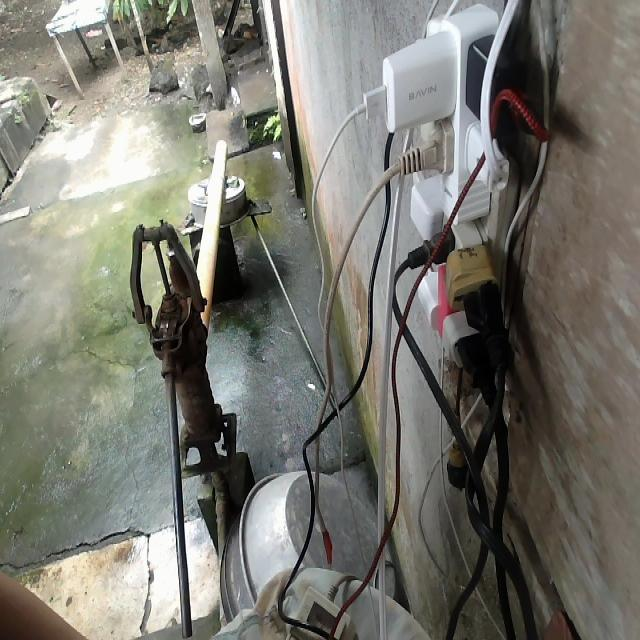-: (377, 4, 539, 380)
